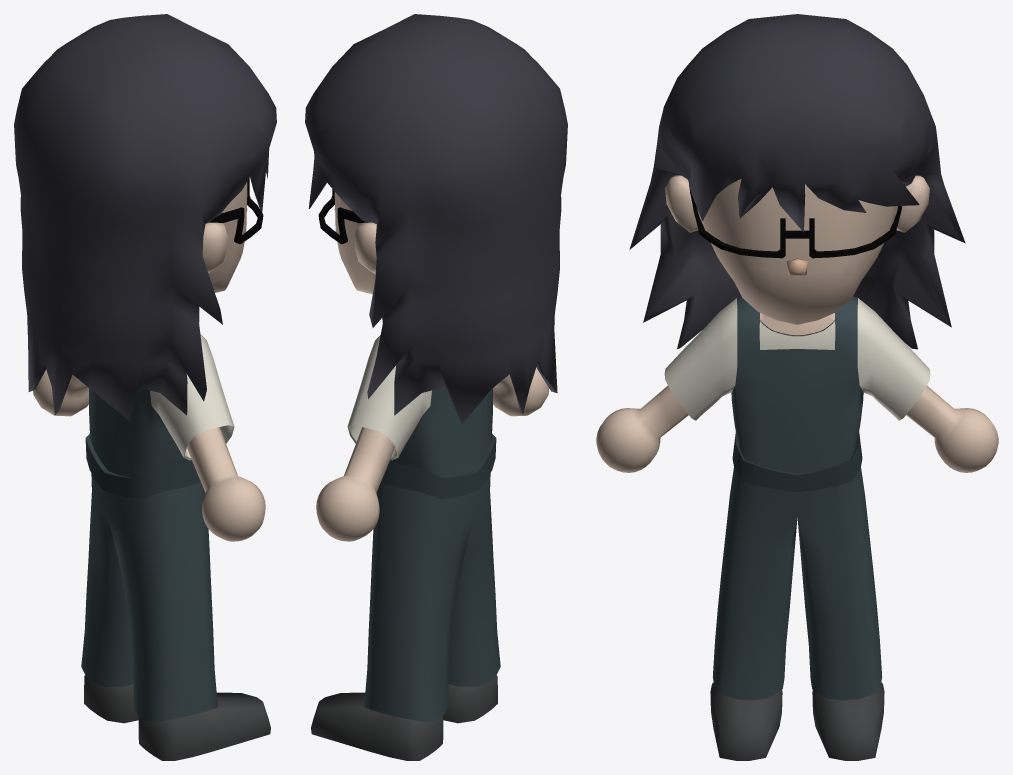
File: Val.fbx
3 renders of one model, left to right at view 1: azimuth 30°, elevation 25°; view 2: azimuth 150°, elevation 25°; view 3: azimuth 270°, elevation 25°, orthographic.
Parts seen in each view (by area): view 1: Val; view 2: Val; view 3: Val.
Part boxes in pixels (<box>): Val: <box>14,14,276,760</box>; Val: <box>305,14,567,760</box>; Val: <box>596,14,998,760</box>.
Bounding box in the file's own units: 99.73 × 312 × 165.
Materials: 1 (1 with a texture image).
